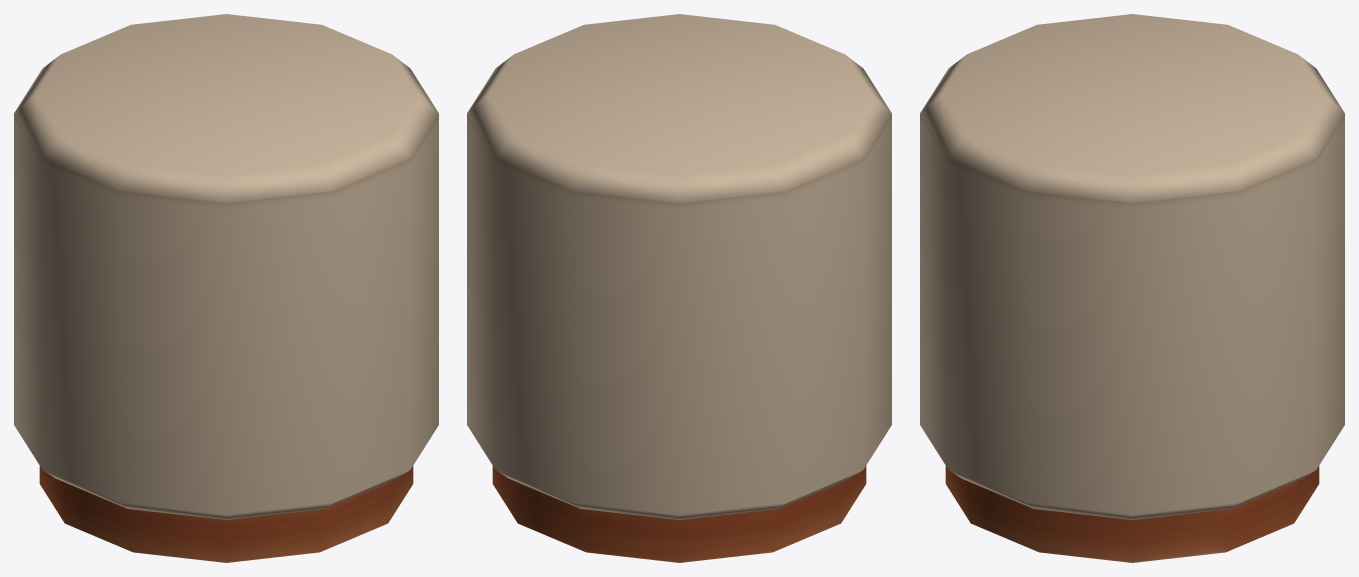
The model's file is Stool_01_Art.fbx.
The picture shows the model from 3 angles, left to right: view 1: azimuth 30°, elevation 25°; view 2: azimuth 150°, elevation 25°; view 3: azimuth 270°, elevation 25°; orthographic projection.
Parts seen in each view (by area): view 1: Stool_01; view 2: Stool_01; view 3: Stool_01.
Part boxes in pixels (x1,y1,x2,y2): Stool_01: (14, 14, 438, 562); Stool_01: (467, 14, 891, 562); Stool_01: (920, 14, 1344, 562).
Bounding box in the file's own units: 75.21 × 76.03 × 75.21.
